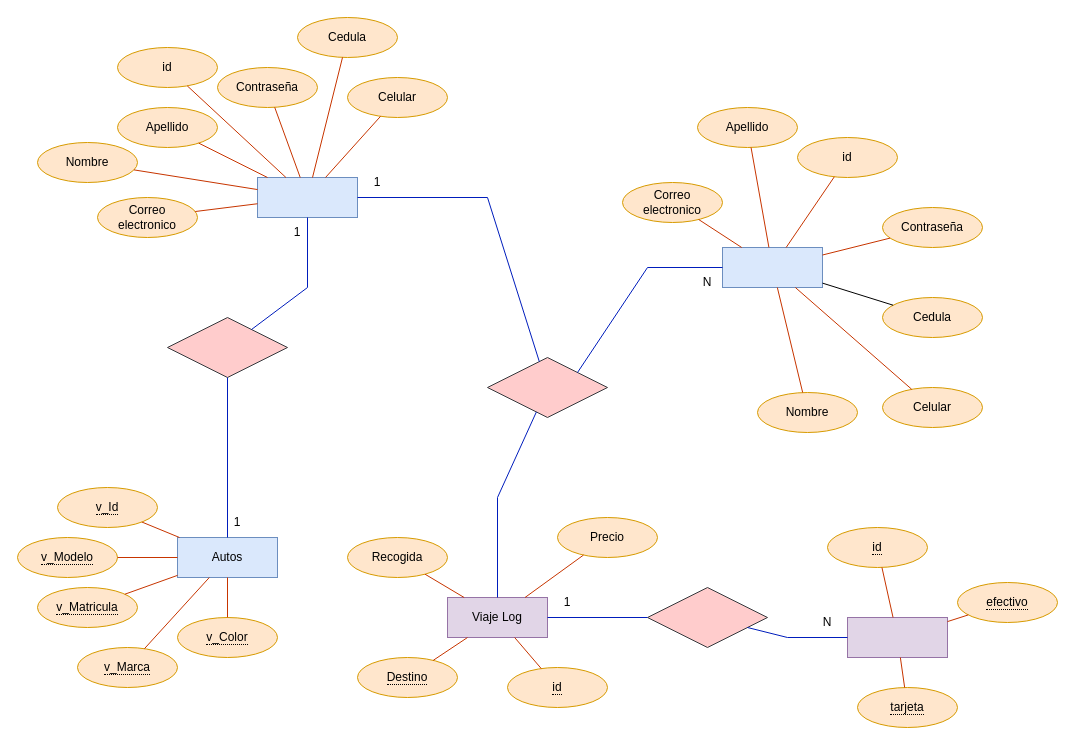
Image size: 1075x745. Some labels were removed from this diagram. The box of each missing label's shape, as (x1, y1, x2, y2) in pixels:
Cliente: (722, 246, 822, 288)
Conductor: (256, 176, 358, 218)
Pago: (646, 586, 768, 648)
Pago_Log: (846, 616, 948, 658)
Pertenece: (166, 316, 288, 378)
Viaje: (486, 356, 608, 418)
